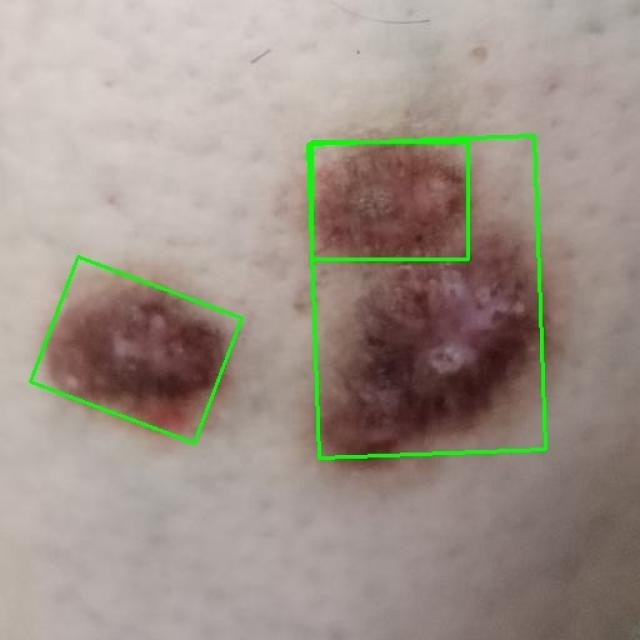Eczema: (309, 136, 546, 458), (31, 256, 242, 443), (311, 141, 468, 259)
